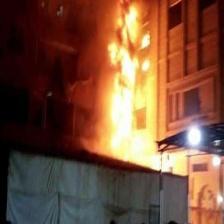fire: (105, 6, 155, 161)
